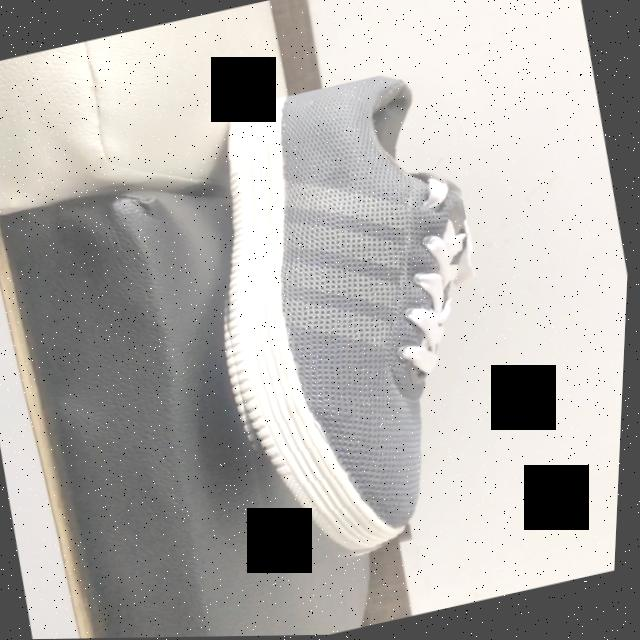shoe: (226, 78, 474, 556)
